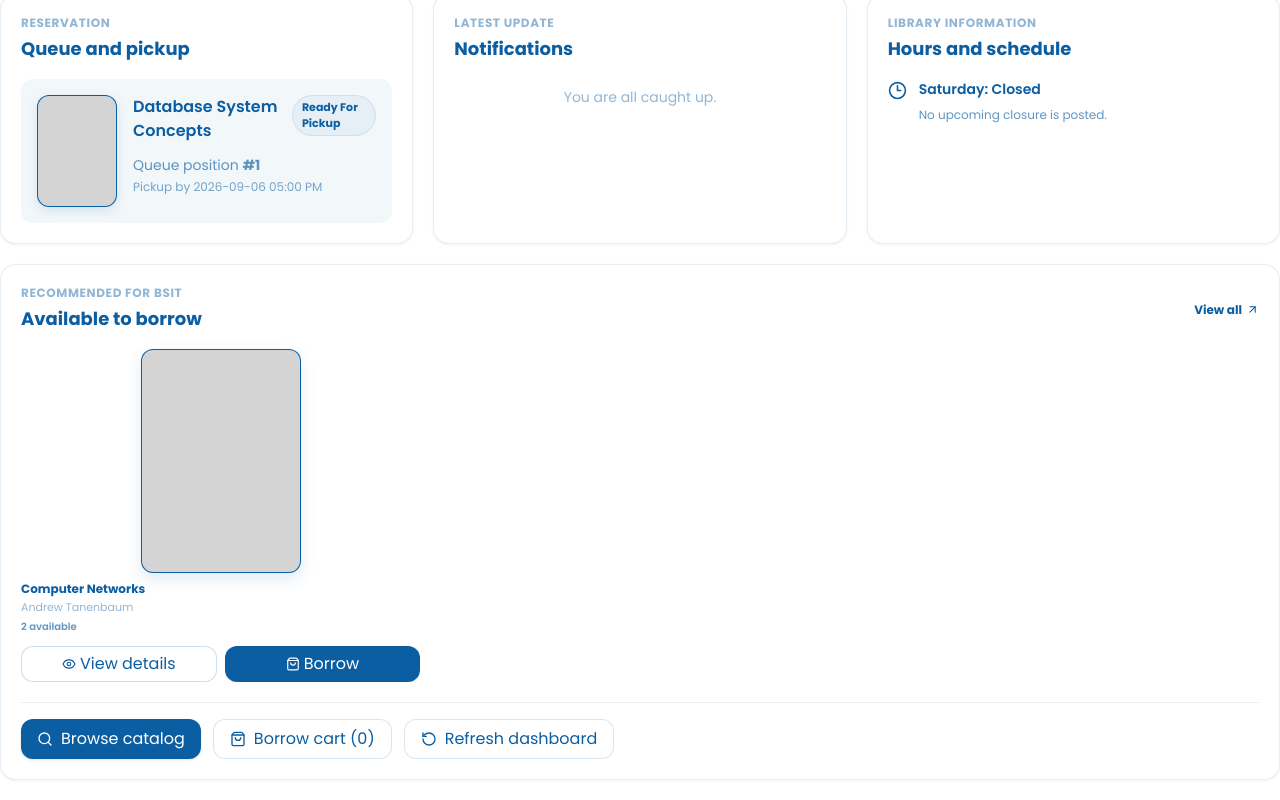
Test: live dashboards › places recommendations after the summary cards and adds a recommended book to the shared borrow cart
(page scrolled)
Check: the button "View details" is shown, box x1=21 y1=646 x2=217 y2=682
Step 1. Click the button "Borrow" → (323, 664), box x1=225 y1=646 x2=420 y2=682
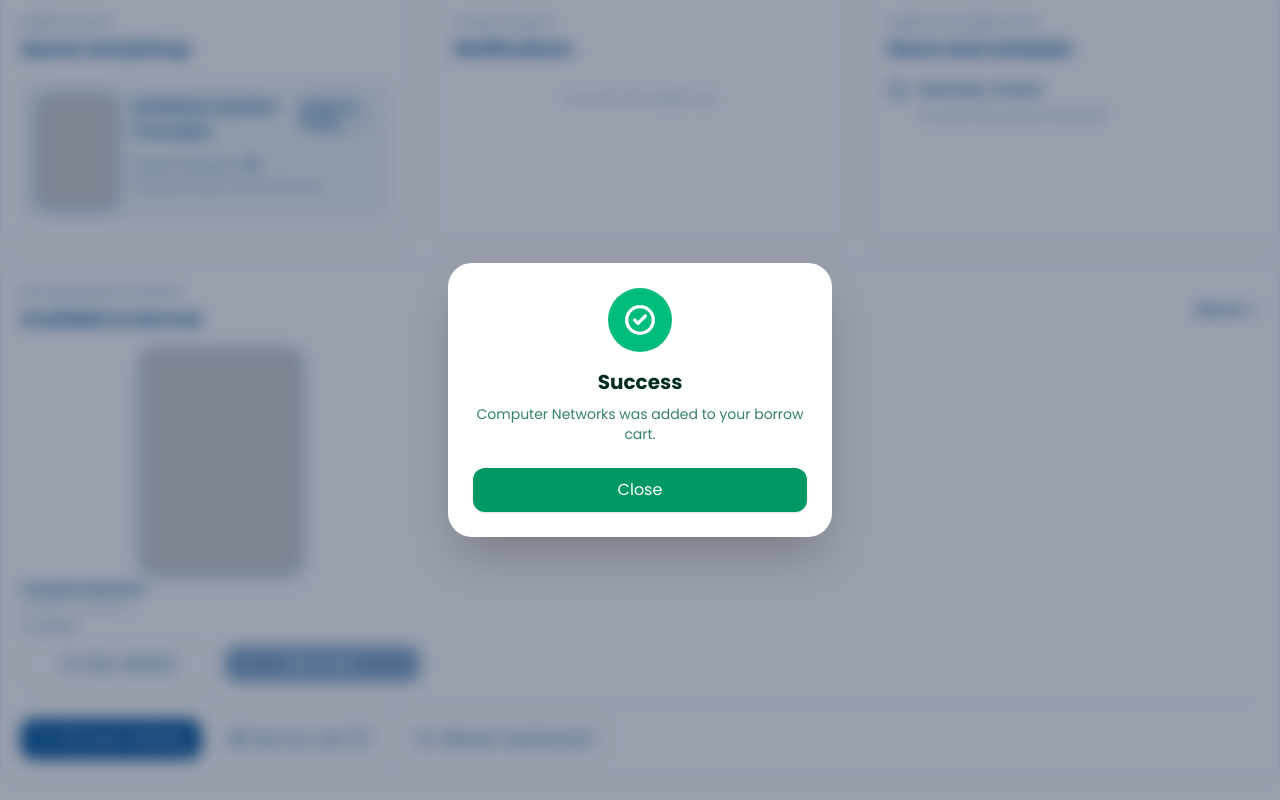
Check: the text "Computer Networks was added to your borrow cart." is shown, box x1=473 y1=404 x2=807 y2=444
Check: the button "In cart" is shown, box x1=225 y1=646 x2=420 y2=682
